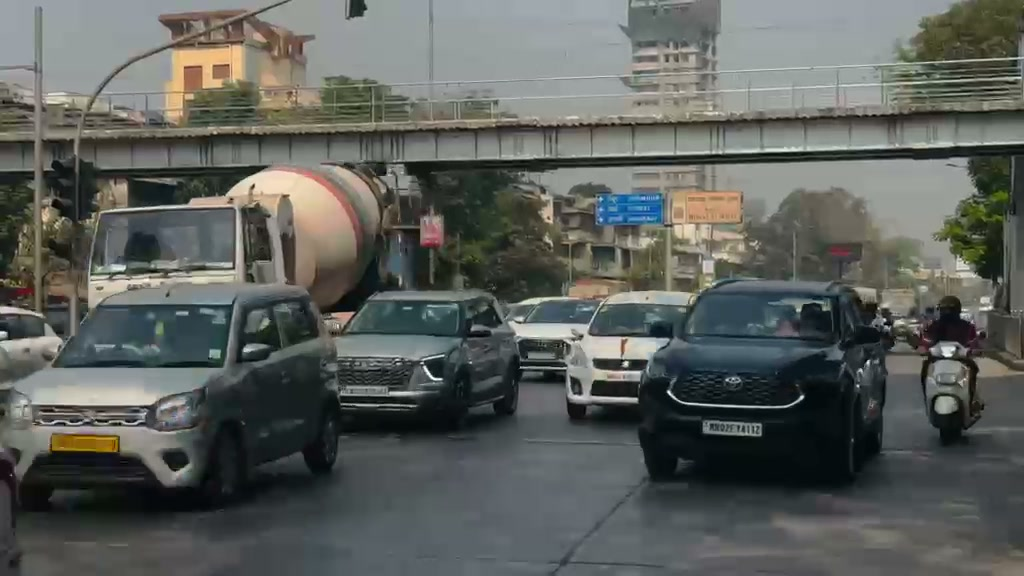car: (1, 280, 344, 513), (636, 279, 891, 484), (333, 288, 522, 430), (563, 289, 692, 422), (505, 296, 597, 383), (0, 306, 64, 376)
motorcycle: (917, 334, 988, 446)
pedestrian: (917, 295, 987, 411)
truck: (83, 161, 400, 316)
